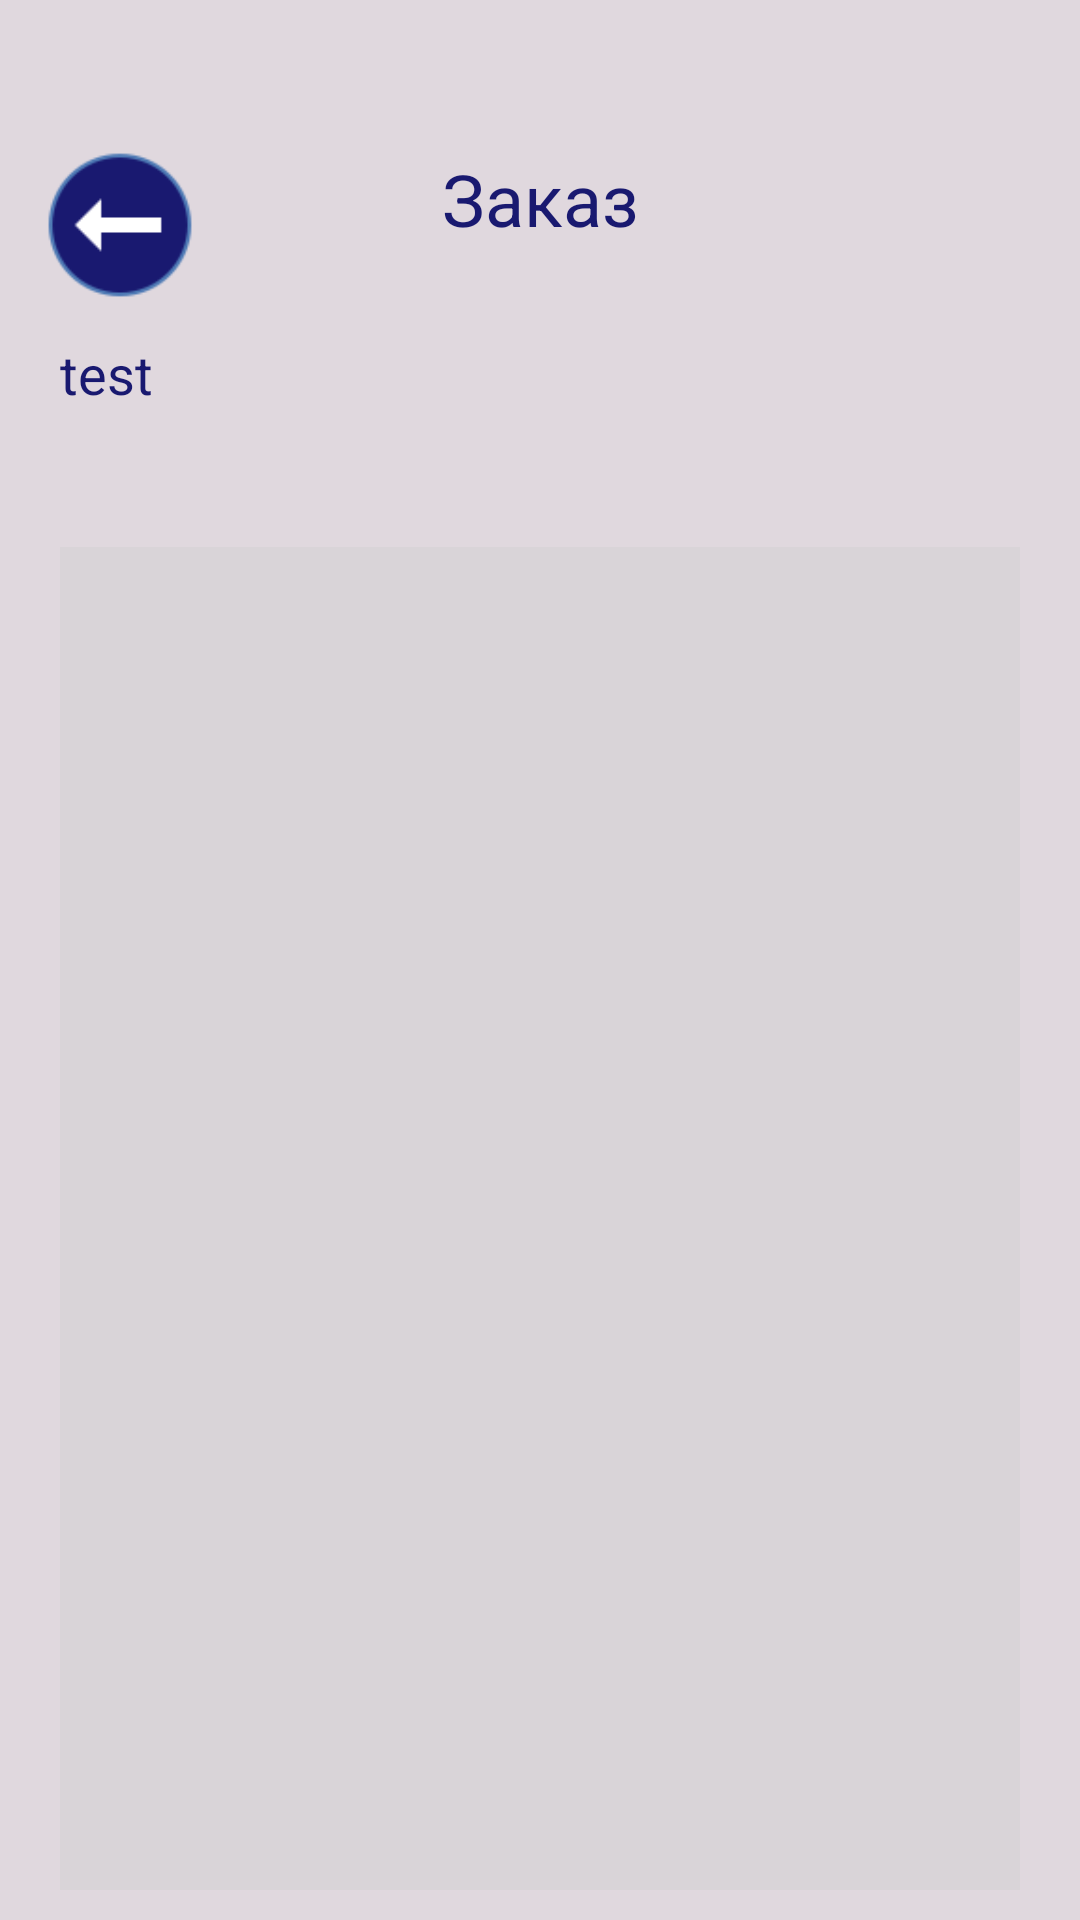

Named icons in this screenshot (1080x1920) and their bounding boxes, bbox(x1, y1, x2, y2):
back: bbox(48, 153, 192, 297)
